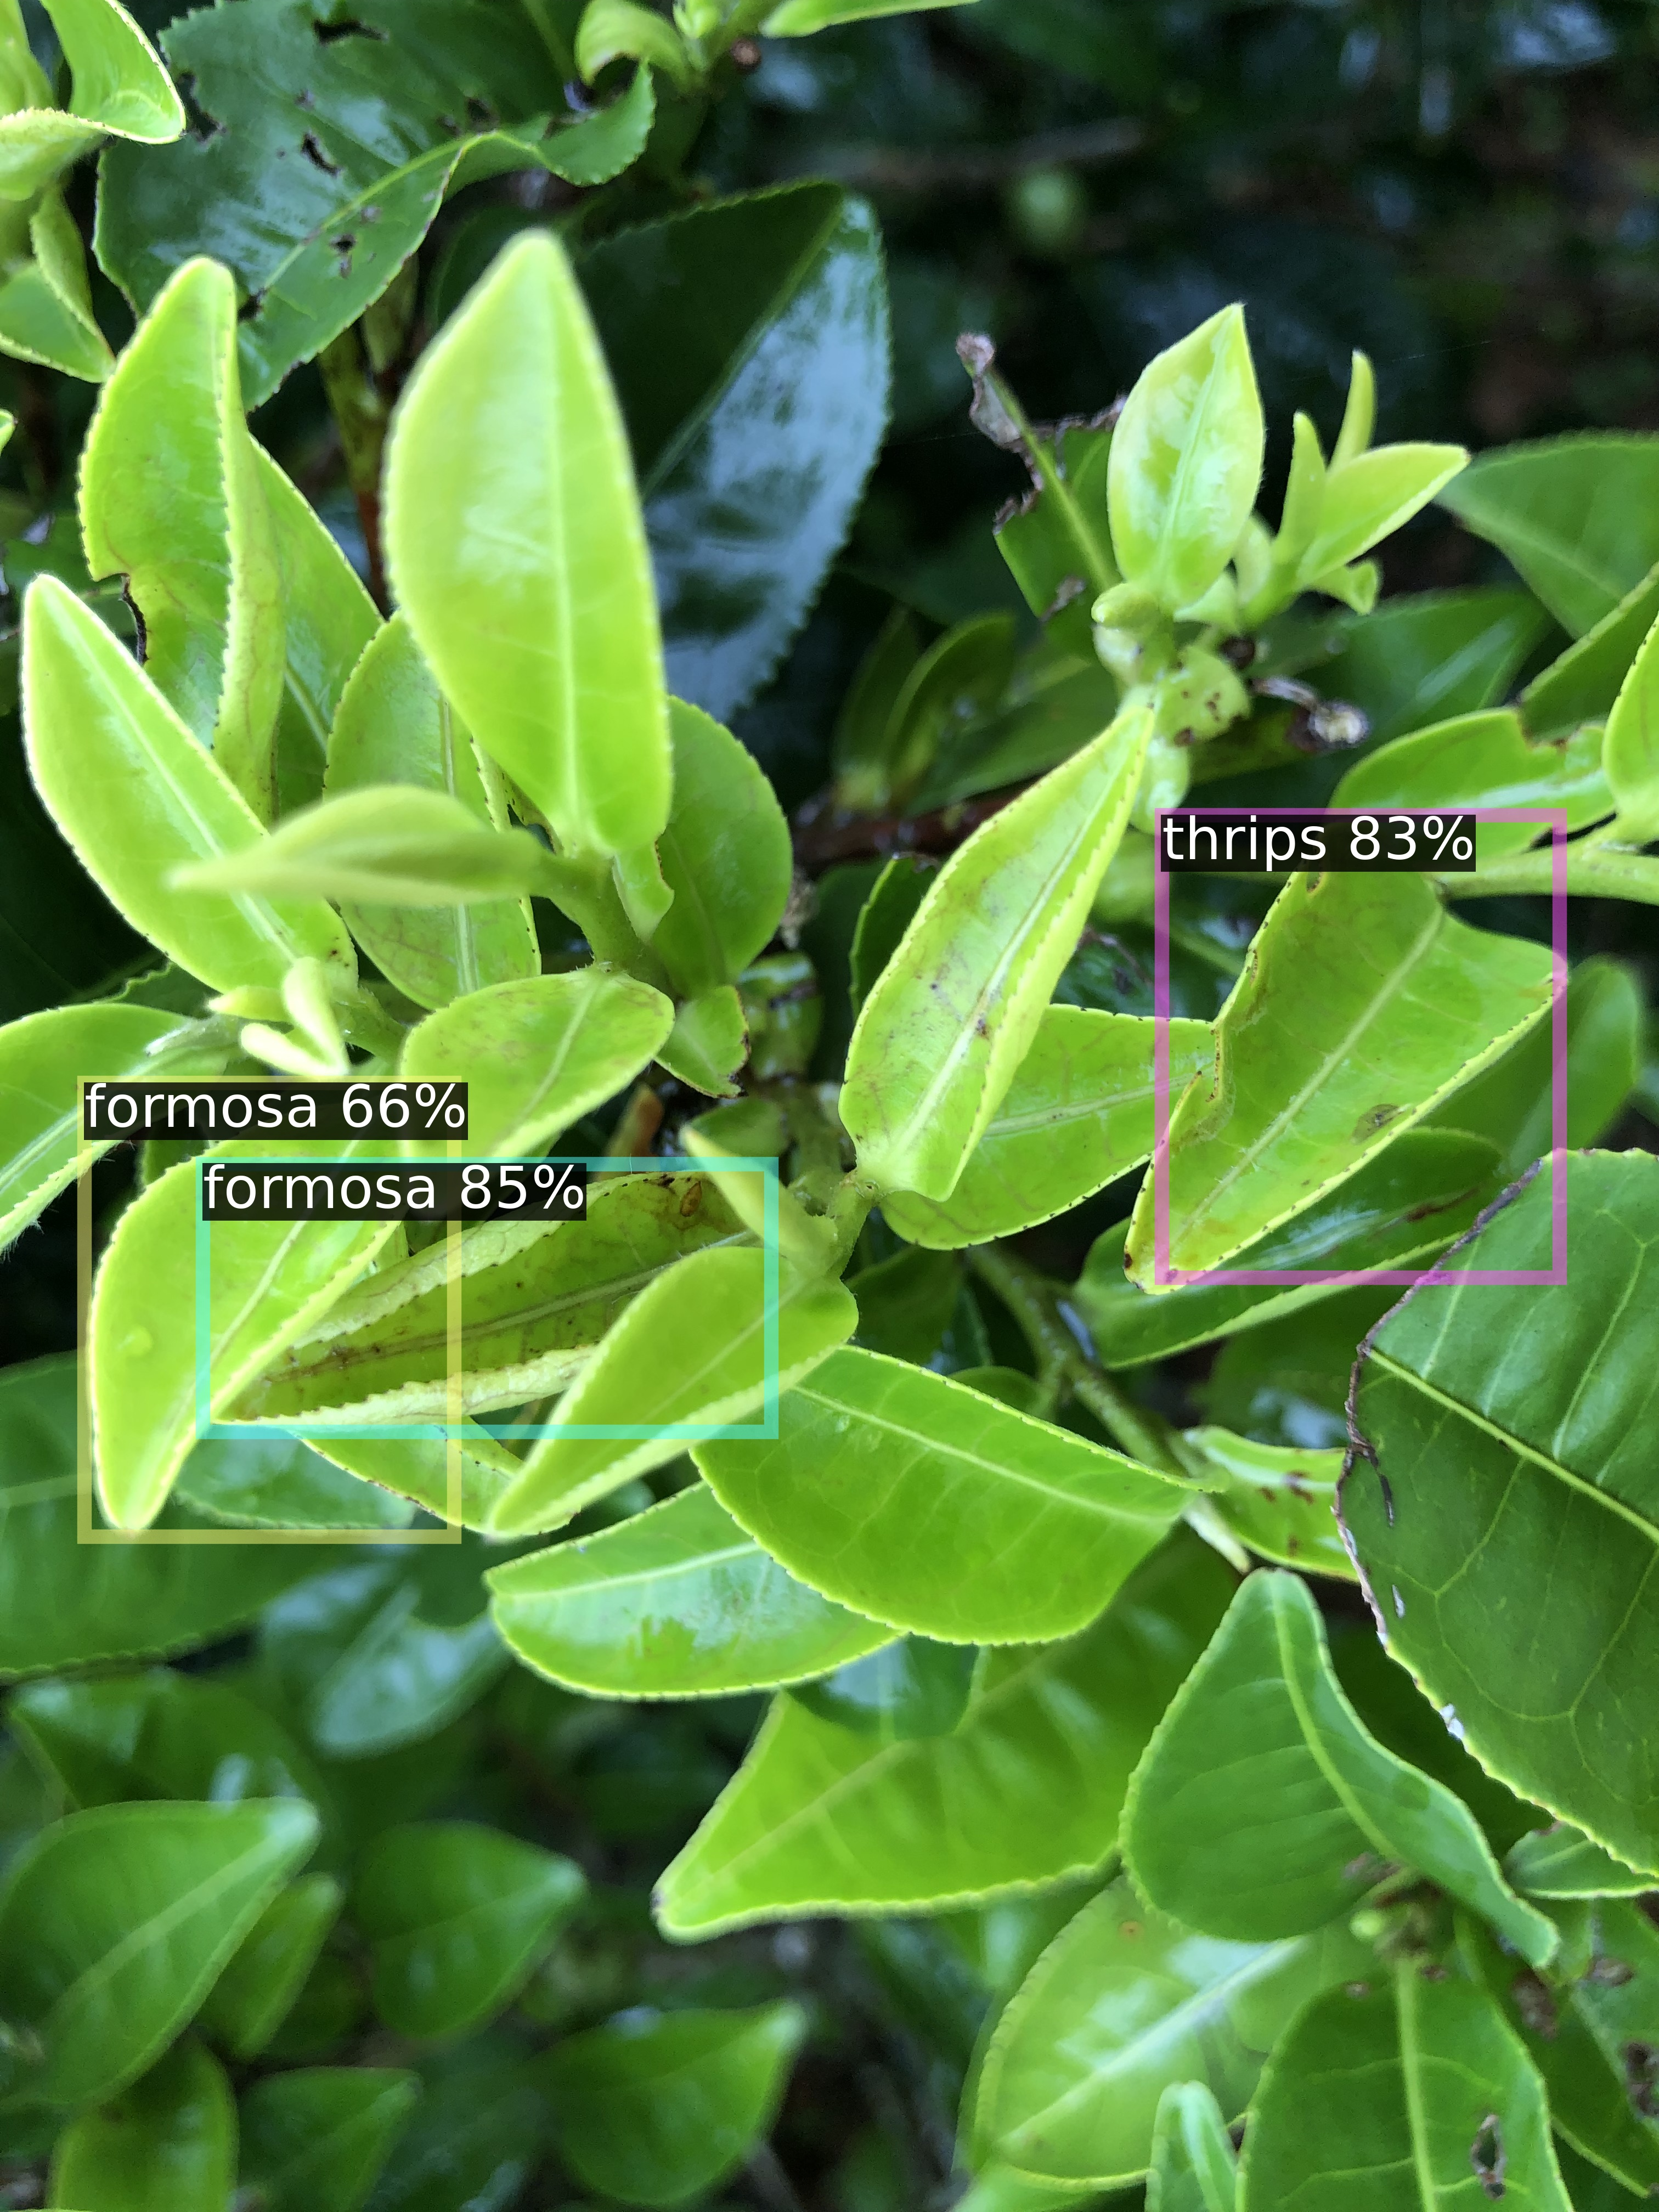formosa: (84, 1083, 453, 1536), (202, 1163, 770, 1432)
thrips: (1161, 815, 1560, 1278)
